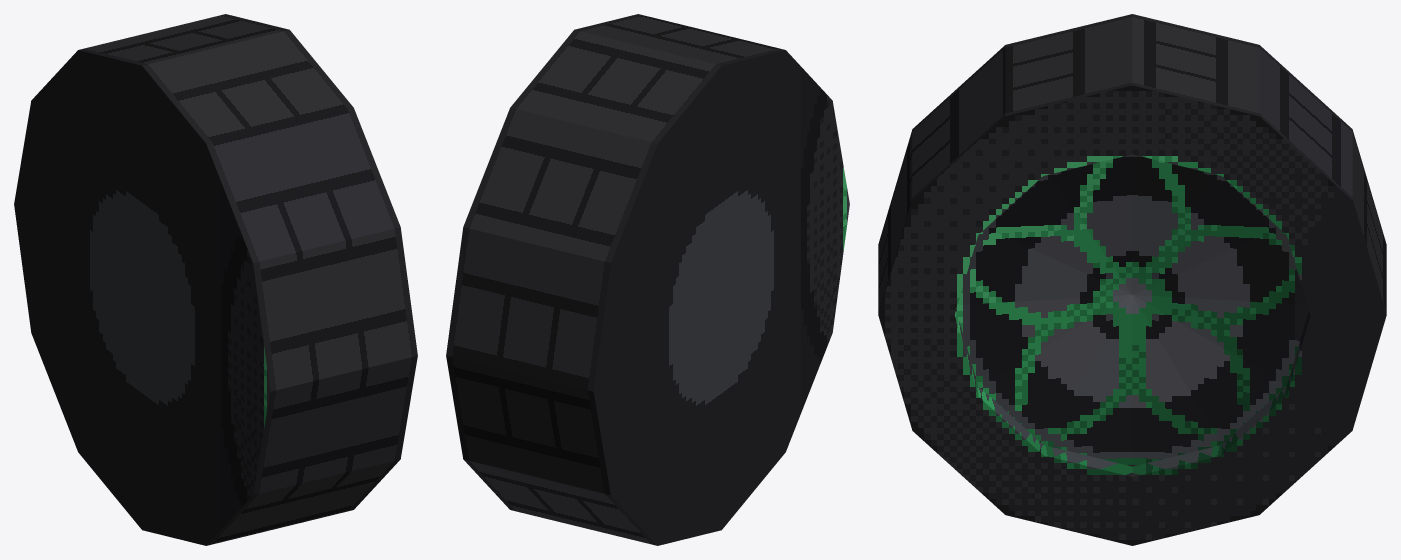
File: wheel_ysp.glb
The picture shows the model from 3 angles, left to right: view 1: azimuth 30°, elevation 25°; view 2: azimuth 150°, elevation 25°; view 3: azimuth 270°, elevation 25°; orthographic projection.
Visible parts, largest first — view 1: wheel_ysp; view 2: wheel_ysp; view 3: wheel_ysp.
Part boxes in pixels (x1,y1,x2,y2): wheel_ysp: [14, 14, 417, 545]; wheel_ysp: [446, 14, 849, 545]; wheel_ysp: [878, 14, 1386, 545].
Size of the model in its own units: 0.205 by 0.6163 by 0.6163.
Materials: 1 (1 with a texture image).
